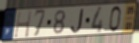0: (108, 6, 122, 34)
4: (90, 6, 105, 34)
7: (33, 9, 46, 39)
8: (53, 10, 66, 36)
H: (13, 10, 33, 39)
J: (70, 8, 85, 34)
